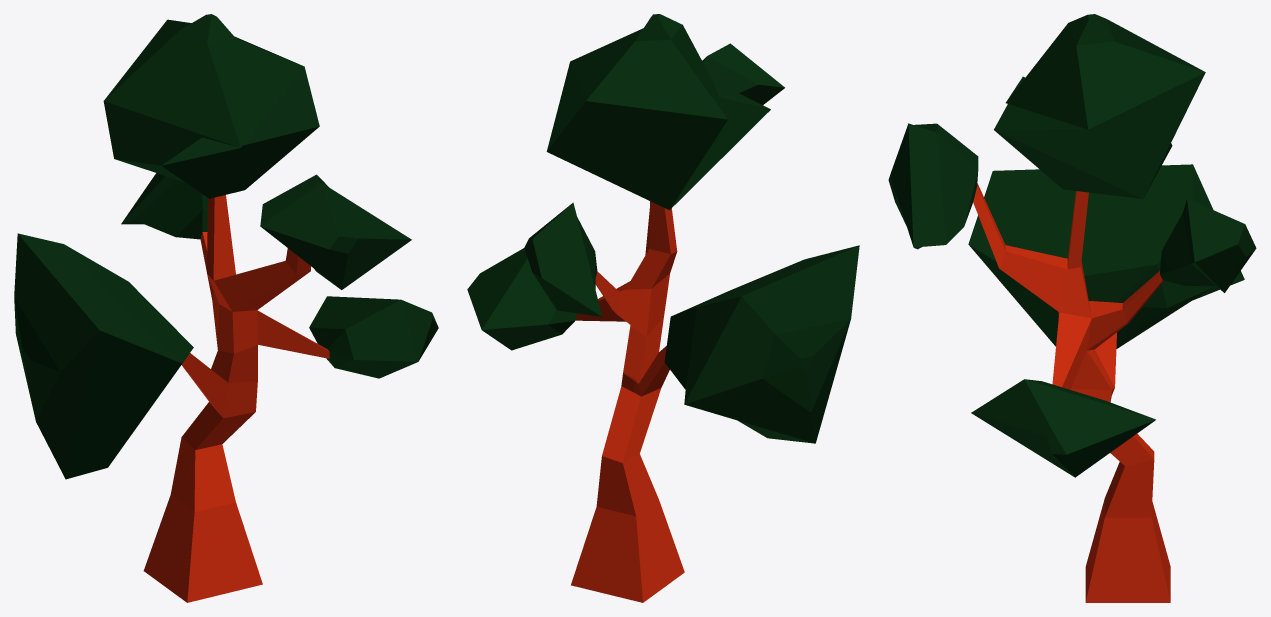
The model's file is basic-plant.obj.
The picture shows the model from 3 angles, left to right: view 1: azimuth 30°, elevation 25°; view 2: azimuth 150°, elevation 25°; view 3: azimuth 270°, elevation 25°; orthographic projection. The views are drawn at different scales.
Parts seen in each view (by area): view 1: BasicPlant_Cube; view 2: BasicPlant_Cube; view 3: BasicPlant_Cube.
Part boxes in pixels (bbox=[...]): BasicPlant_Cube: bbox=[14, 14, 438, 602]; BasicPlant_Cube: bbox=[467, 14, 859, 602]; BasicPlant_Cube: bbox=[888, 14, 1256, 602].
Bounding box in the file's own units: 3.16 × 4.5 × 2.66.
